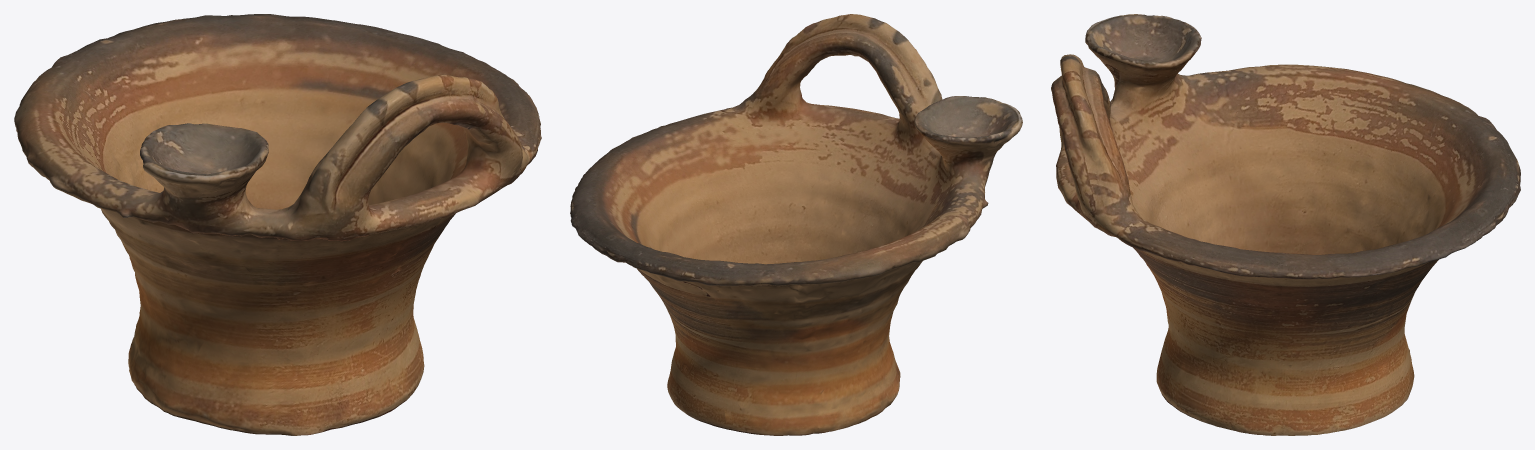
Rendered from Kypello.fbx.
3 views of the same model, side by side, from view 1: azimuth 30°, elevation 25°; view 2: azimuth 150°, elevation 25°; view 3: azimuth 270°, elevation 25° (orthographic). The views are drawn at different scales.
Parts seen in each view (by area): view 1: Kypello-video; view 2: Kypello-video; view 3: Kypello-video.
Part boxes in pixels (x1,y1,x2,y2): Kypello-video: (14, 14, 541, 435); Kypello-video: (570, 14, 1022, 435); Kypello-video: (1051, 14, 1520, 435).
Bounding box in the file's own units: 15.94 × 16.22 × 12.51.
2 materials, 2 textured.
